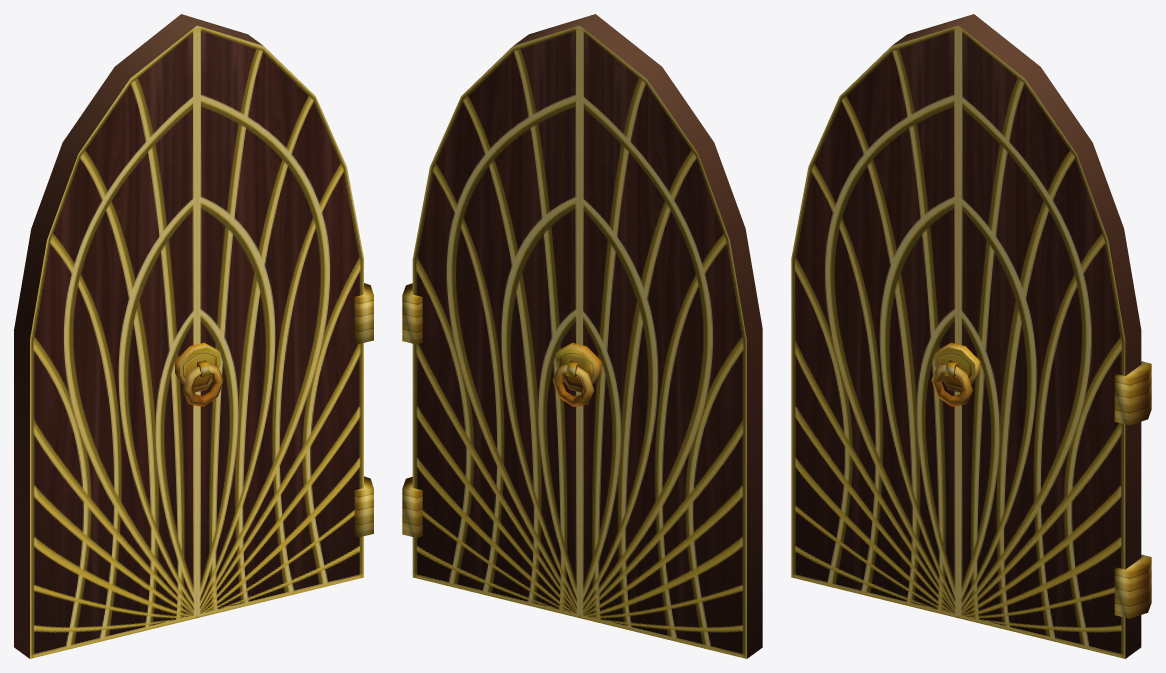
The model's file is Library_Door.fbx.
3 renders of one model, left to right at view 1: azimuth 30°, elevation 25°; view 2: azimuth 150°, elevation 25°; view 3: azimuth 330°, elevation 25°, orthographic.
Parts seen in each view (by area): view 1: LibraryDoor; view 2: LibraryDoor; view 3: LibraryDoor.
Boxes of the visible parts, x1,y1,x2,y2 form: LibraryDoor: (14, 14, 373, 658); LibraryDoor: (402, 14, 762, 658); LibraryDoor: (791, 14, 1151, 658).
Size of the model in its own units: 417 by 678 by 71.66.
